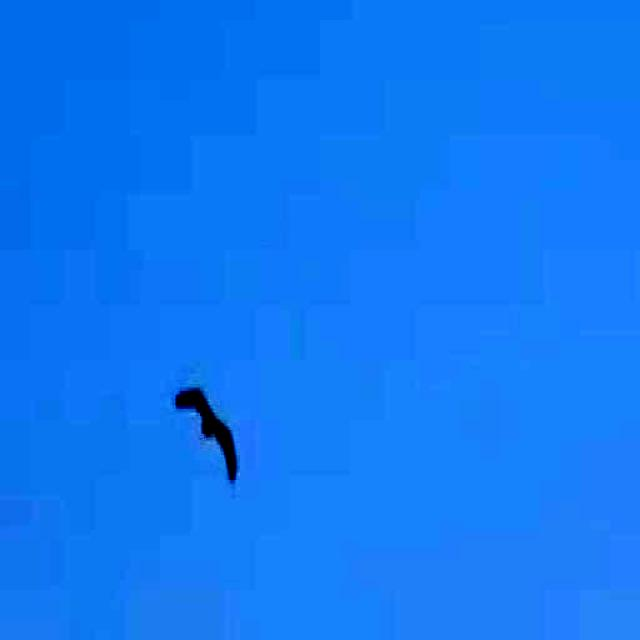airplane: (172, 356, 249, 482)
